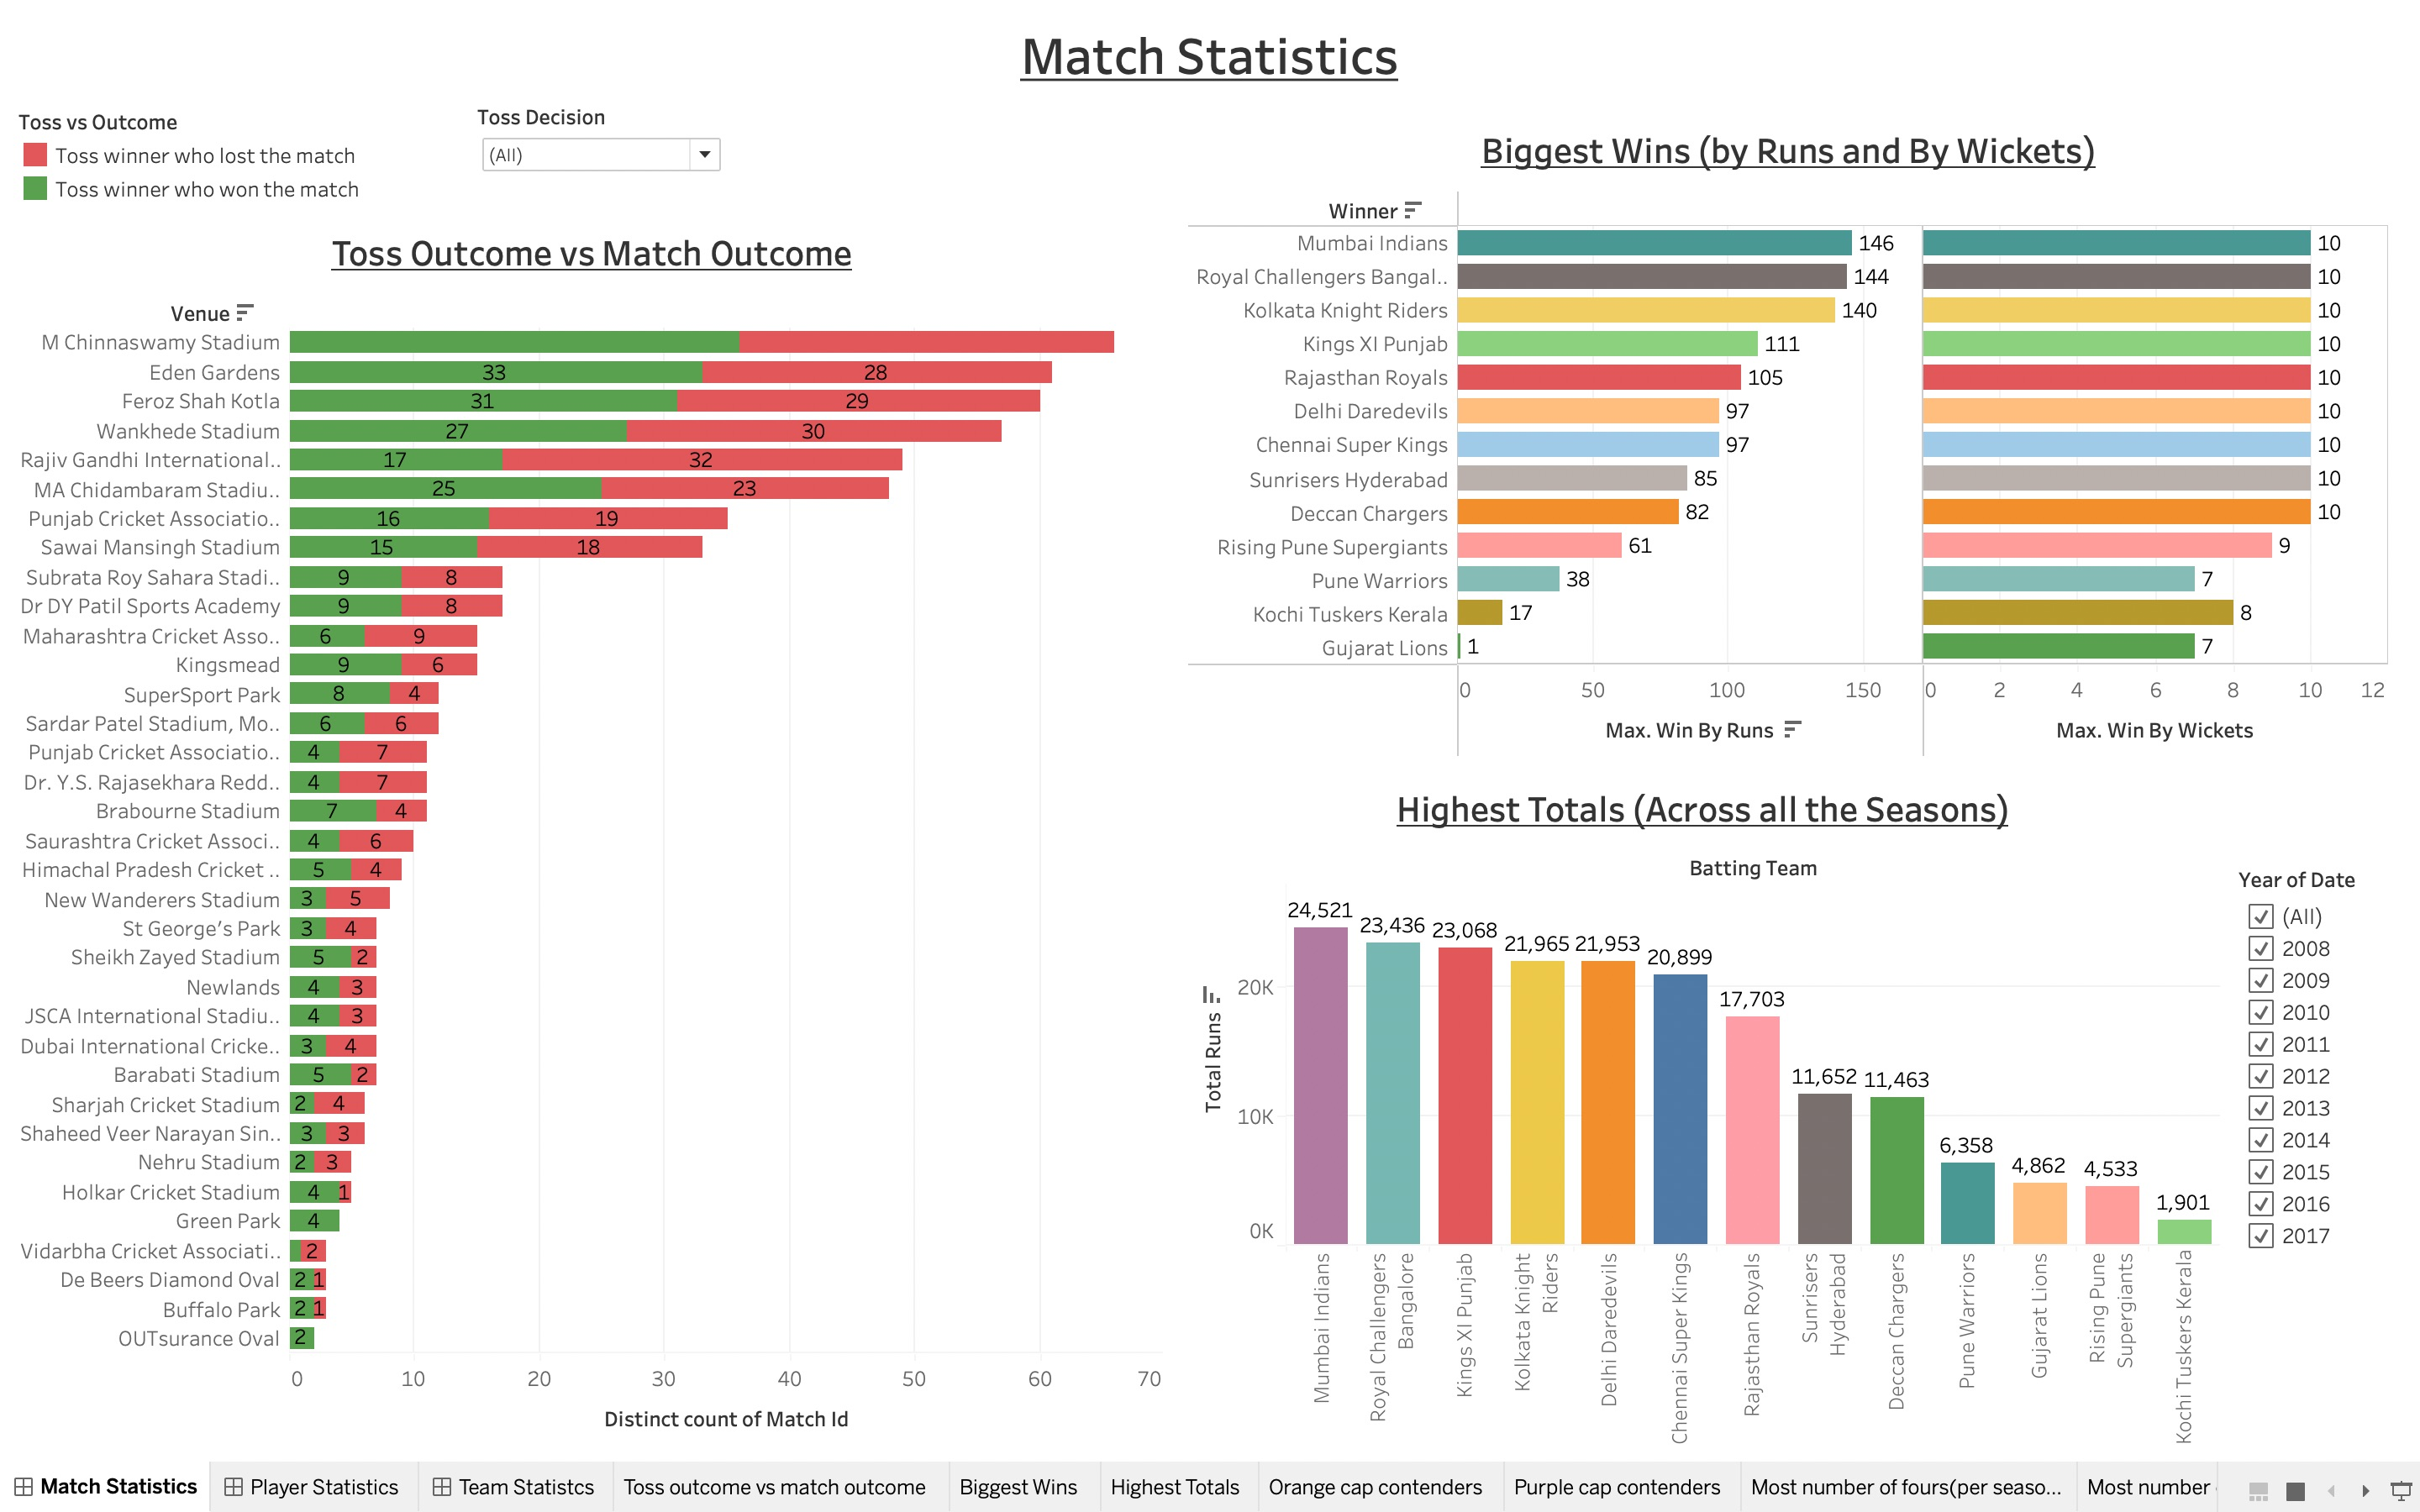

The page's visual inventory and layout, read from the dashboard file:
{"tool":"tableau","page":{"name":"Match Statistics","canvas":[1000,1000],"units":"permille","ordinal":0},"visuals":[{"type":"title","box":[5.7,9.9,988.7,59.4]},{"type":"filter","title":"Toss outcome vs match outcome","param":"[federated.1izga6q03dv54312r5zsh167bm26].[none:toss_decision:nk]","box":[196.9,70.5,102.5,66.8]},{"type":"legend","title":"Toss outcome vs match outcome","param":"[federated.1izga6q03dv54312r5zsh167bm26].[none:Calculation_243687003122790400:nk","box":[7.3,73,170.1,74.3]},{"type":"worksheet","title":"Biggest Wins ","mark":"Automatic","rows":["winner"],"cols":["win_by_runs","win_by_wickets"],"box":[490.6,81.7,496.3,436.9]},{"type":"worksheet","title":"Toss outcome vs match outcome","mark":"Automatic","rows":["venue"],"cols":["match_id"],"box":[8.1,152.2,472.7,836.6]},{"type":"worksheet","title":"Highest Totals","mark":"Automatic","rows":["total_runs"],"cols":["batting_team"],"box":[490.1,532.2,427.2,457.9]},{"type":"filter","title":"Highest Totals","param":"[federated.1izga6q03dv54312r5zsh167bm26].[yr:date:ok]","box":[925.1,591.6,68.4,330.4]}]}

Visuals, with their boxes on the dashboard's canvas, which has no fixed pixel size, in thousandths of its width and height (x1, y1, x2, y2). These are canvas units, not pixel positions in the 2420x1512 screenshot, which may show the page scaled, cropped or inside an application window:
title: l=6, t=10, r=994, b=69
"Toss outcome vs match outcome" filter: l=197, t=70, r=299, b=137
"Toss outcome vs match outcome" legend: l=7, t=73, r=177, b=147
"Biggest Wins " worksheet: l=491, t=82, r=987, b=519
"Toss outcome vs match outcome" worksheet: l=8, t=152, r=481, b=989
"Highest Totals" worksheet: l=490, t=532, r=917, b=990
"Highest Totals" filter: l=925, t=592, r=994, b=922
